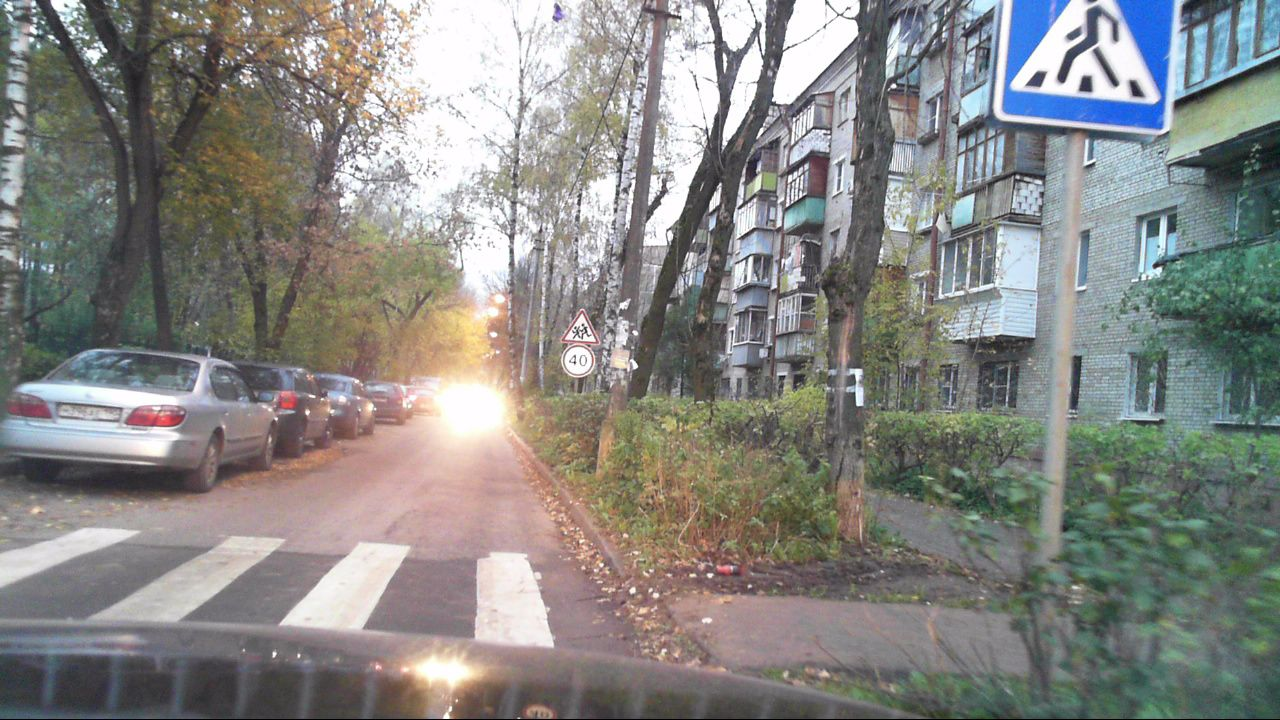speed_warning_40: (558, 342, 592, 376)
